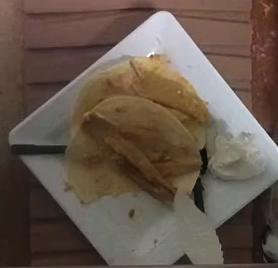taco: (65, 54, 208, 202)
